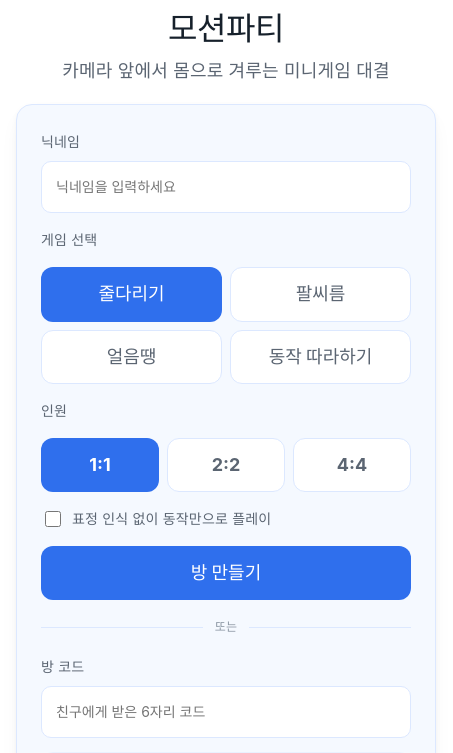
Test: Lobby: joining a room › uppercases and strips anything that is not a letter or digit
Type "a-b c2!34" into the field with placeholder "친구에게 받은 6자리 코드" at (226, 712), box [41, 686, 411, 738]
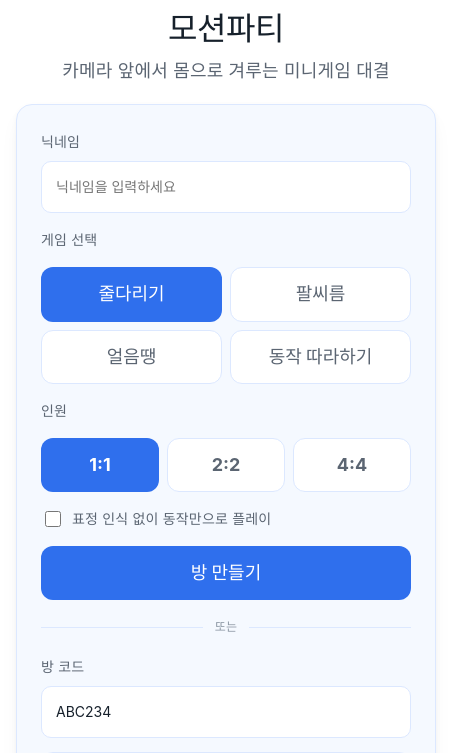
Now the field with placeholder "친구에게 받은 6자리 코드" holds "ABC234", box [41, 686, 411, 738]
